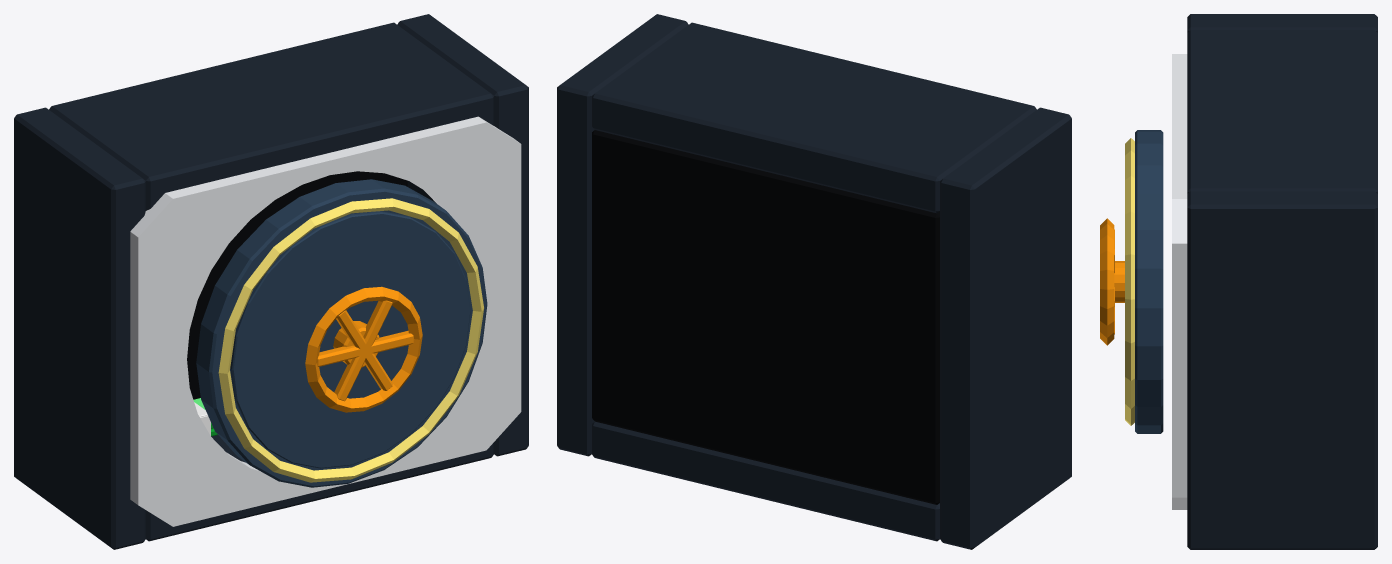
File: vault_classic__v001__model.fbx
The picture shows the model from 3 angles, left to right: view 1: azimuth 30°, elevation 25°; view 2: azimuth 150°, elevation 25°; view 3: azimuth 270°, elevation 25°; orthographic projection. The views are drawn at different scales.
Visible parts, largest first — view 1: vault_classic_Mesh, DoorHinge_Mesh, WheelPivot_Mesh; view 2: vault_classic_Mesh; view 3: vault_classic_Mesh, DoorHinge_Mesh, WheelPivot_Mesh.
Part boxes in pixels (left/top/right/bottom): vault_classic_Mesh: left=14, top=14, right=528, bottom=549; DoorHinge_Mesh: left=196, top=179, right=487, bottom=487; WheelPivot_Mesh: left=305, top=286, right=422, bottom=412; vault_classic_Mesh: left=557, top=14, right=1071, bottom=549; vault_classic_Mesh: left=1172, top=14, right=1377, bottom=549; DoorHinge_Mesh: left=1125, top=130, right=1163, bottom=433; WheelPivot_Mesh: left=1100, top=218, right=1124, bottom=345.
Bounding box in the file's own units: 4.8 × 4 × 2.92.
1 material, 1 textured.
